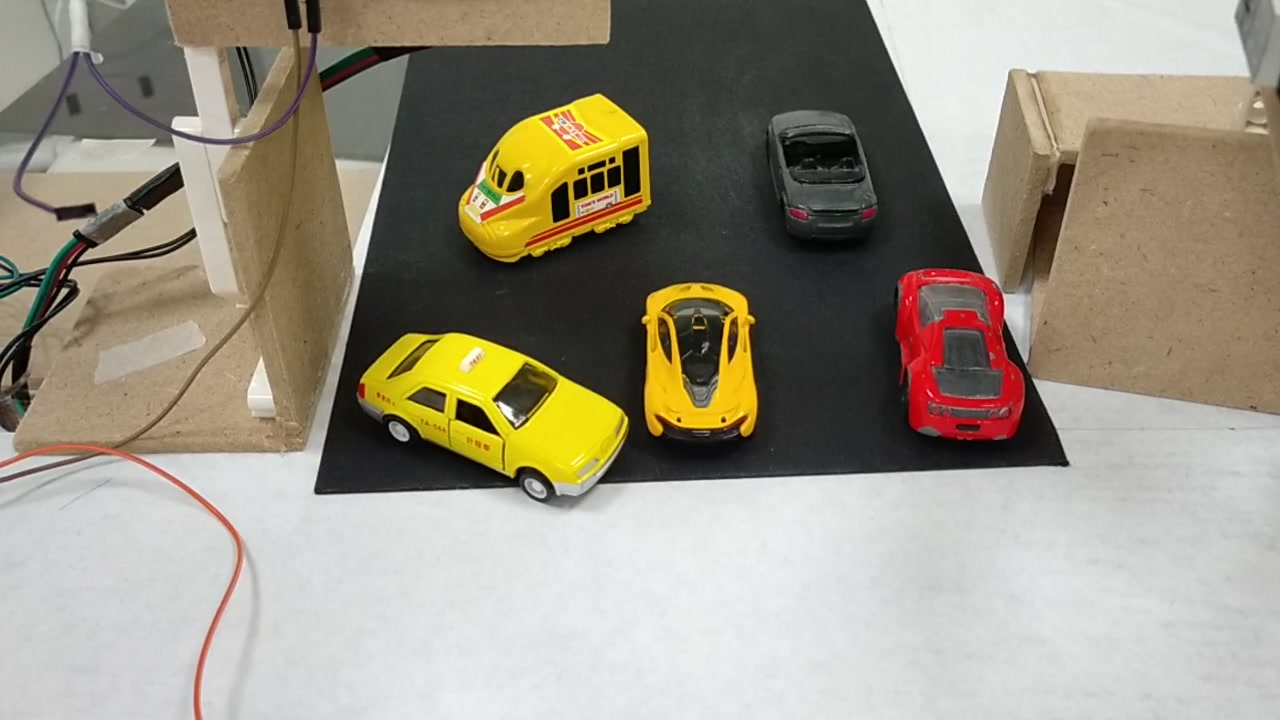car: (356, 327, 626, 509), (888, 270, 1023, 443), (639, 288, 757, 442), (763, 106, 875, 237)
